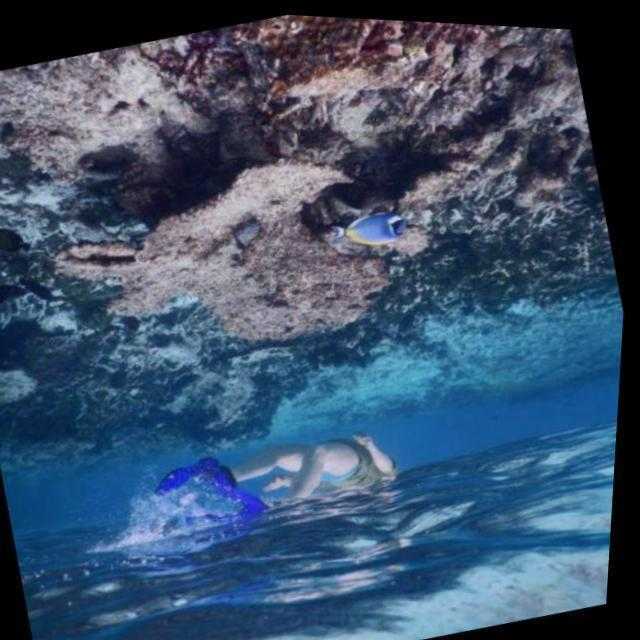Dead Coral: (79, 149, 377, 346)
